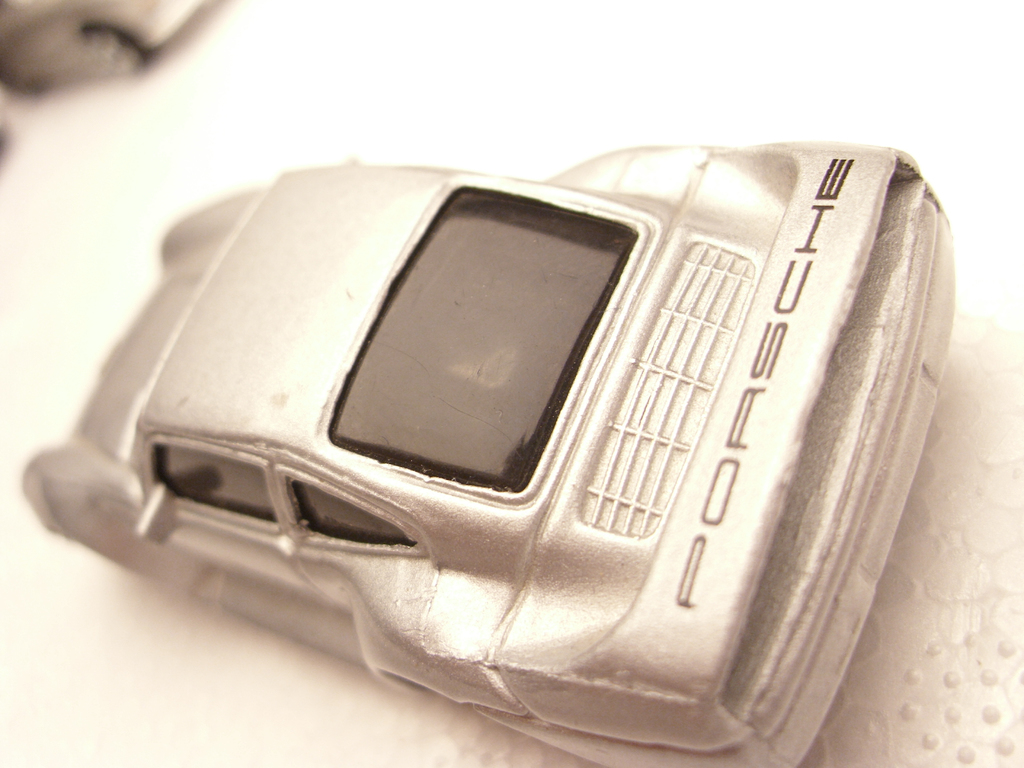mobil: (34, 128, 968, 768)
